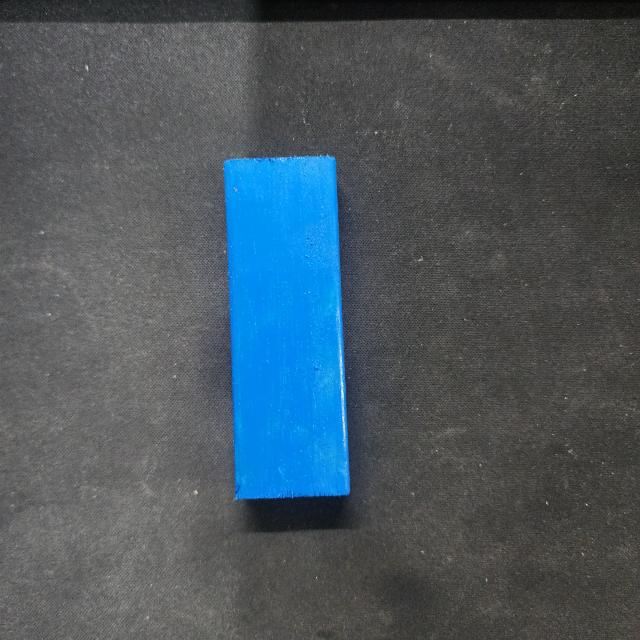blue: (223, 157, 350, 502)
